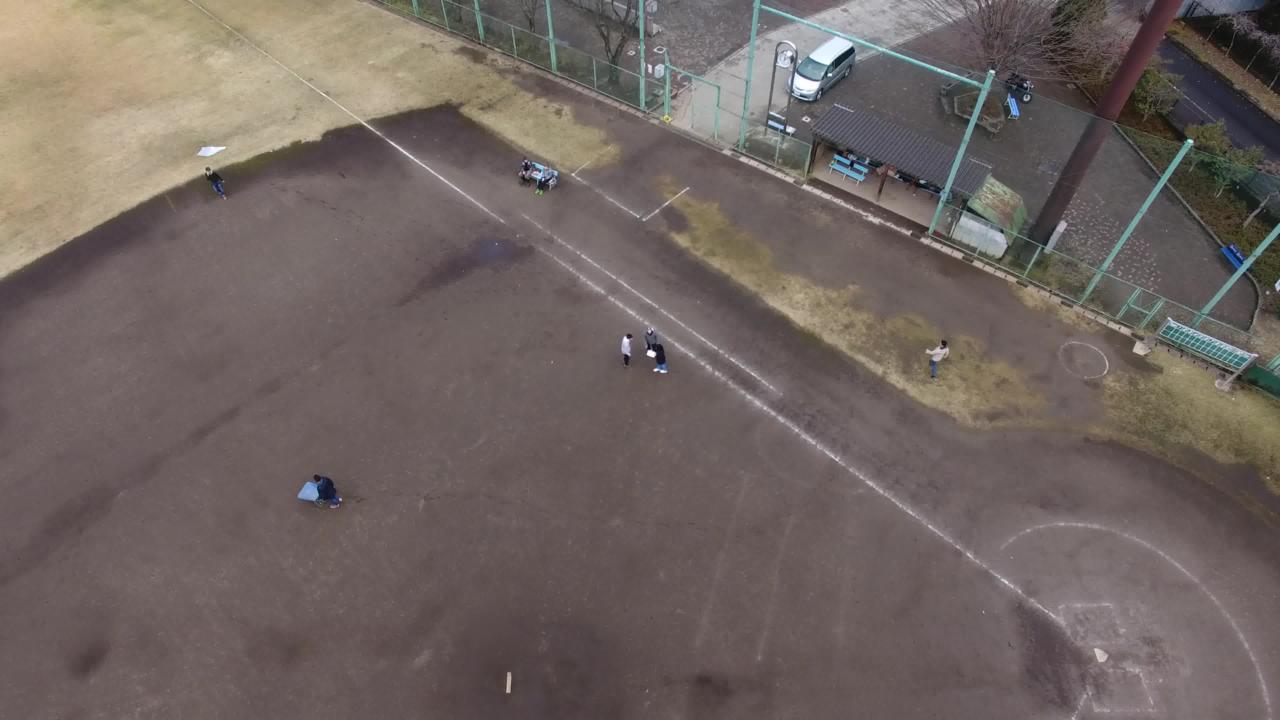bench: (823, 150, 868, 192)
car: (777, 35, 866, 103)
person: (925, 337, 960, 386), (200, 160, 234, 206), (610, 328, 639, 377), (309, 473, 341, 515), (540, 157, 566, 204), (648, 346, 675, 382), (635, 320, 665, 352), (510, 153, 536, 186)
